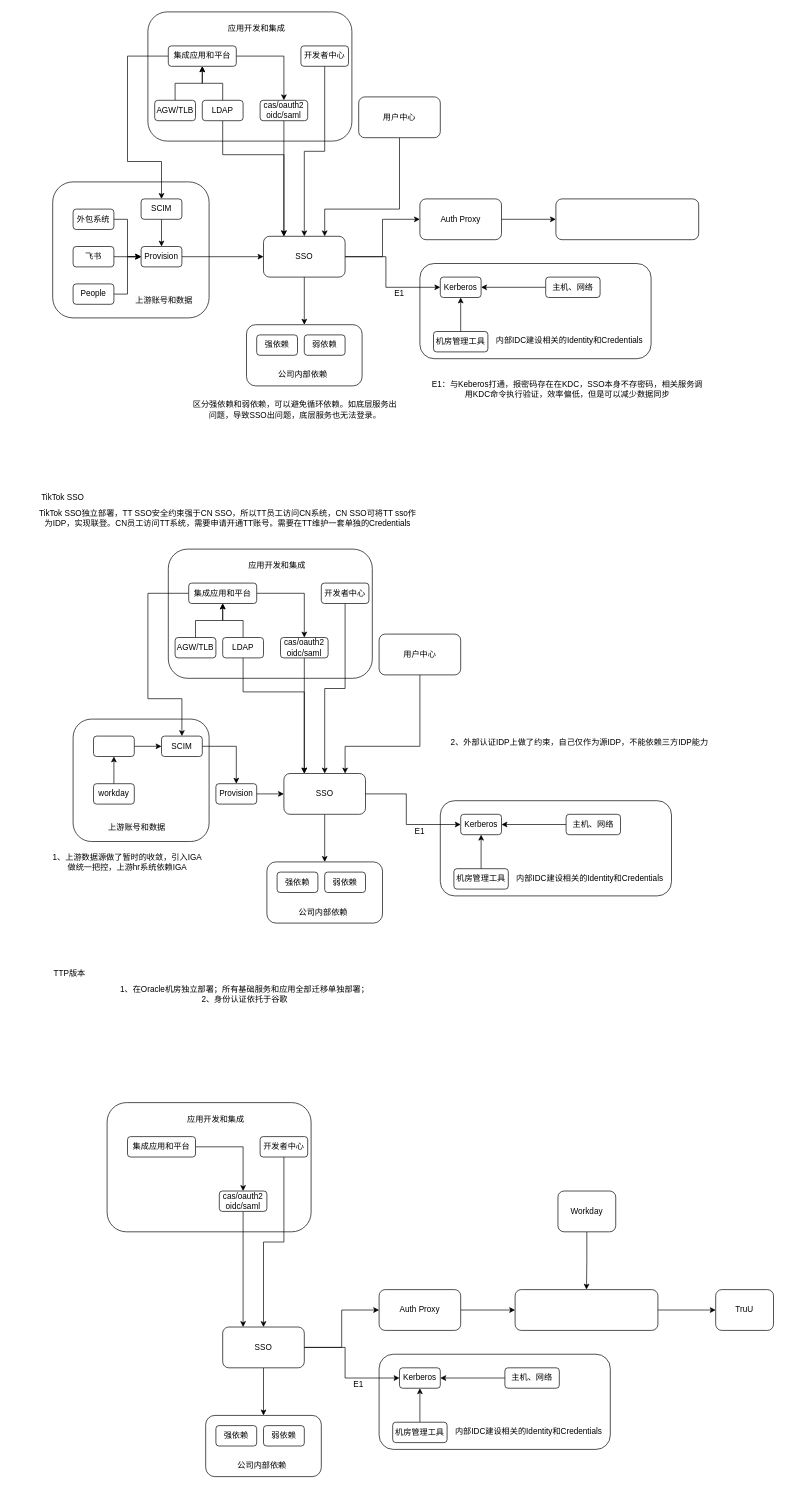
Image size: 785x1495. Some labels were removed from this diagram. Here are the shapes that lost their labels. From the top down, the centre of each, then its label:
the point at 627,219: 外部认证体系 （Google Workstation、飞书字节租户）
the point at 113,745: IGA
the point at 586,1309: 外部认证体系 （Google Workstation）
